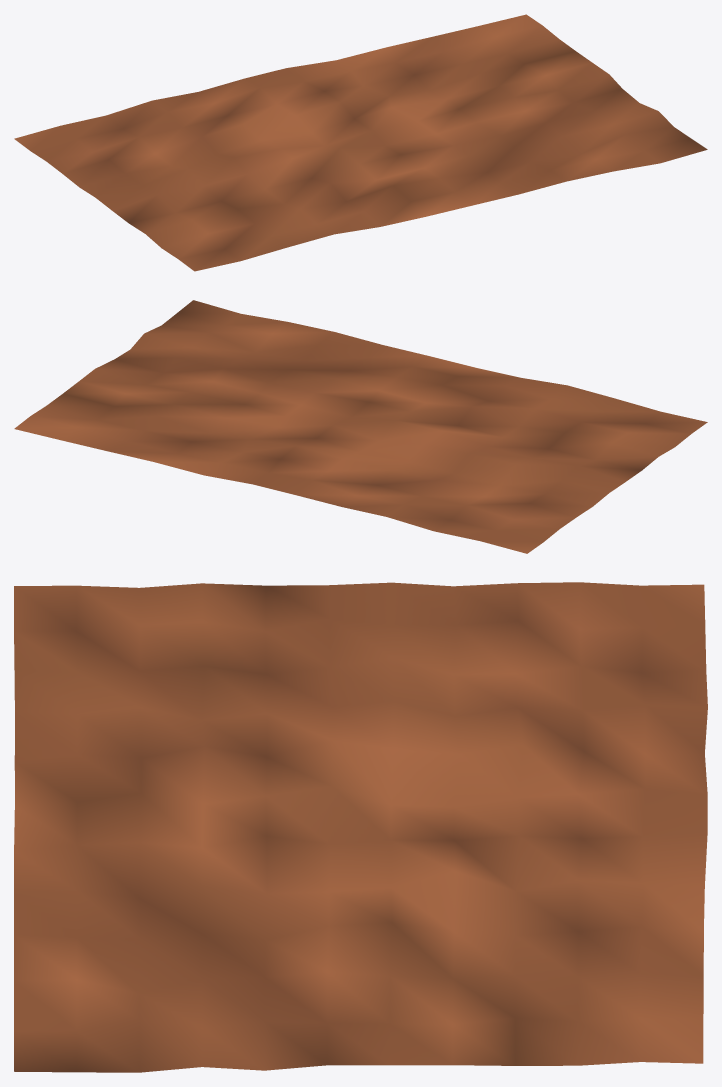
File: ChaoTerra.fbx
3 views of the same model, one above another, from view 1: azimuth 30°, elevation 25°; view 2: azimuth 150°, elevation 25°; view 3: azimuth 270°, elevation 25° (orthographic). The views are drawn at different scales.
Parts seen in each view (by area): view 1: Terra; view 2: Terra; view 3: Terra.
Boxes of the visible parts, box(x1,y1,x2,y2) form: Terra: box(14, 14, 707, 271); Terra: box(14, 300, 707, 553); Terra: box(14, 582, 707, 1072).
Size of the model in its own units: 8822 by 273 by 5395.
